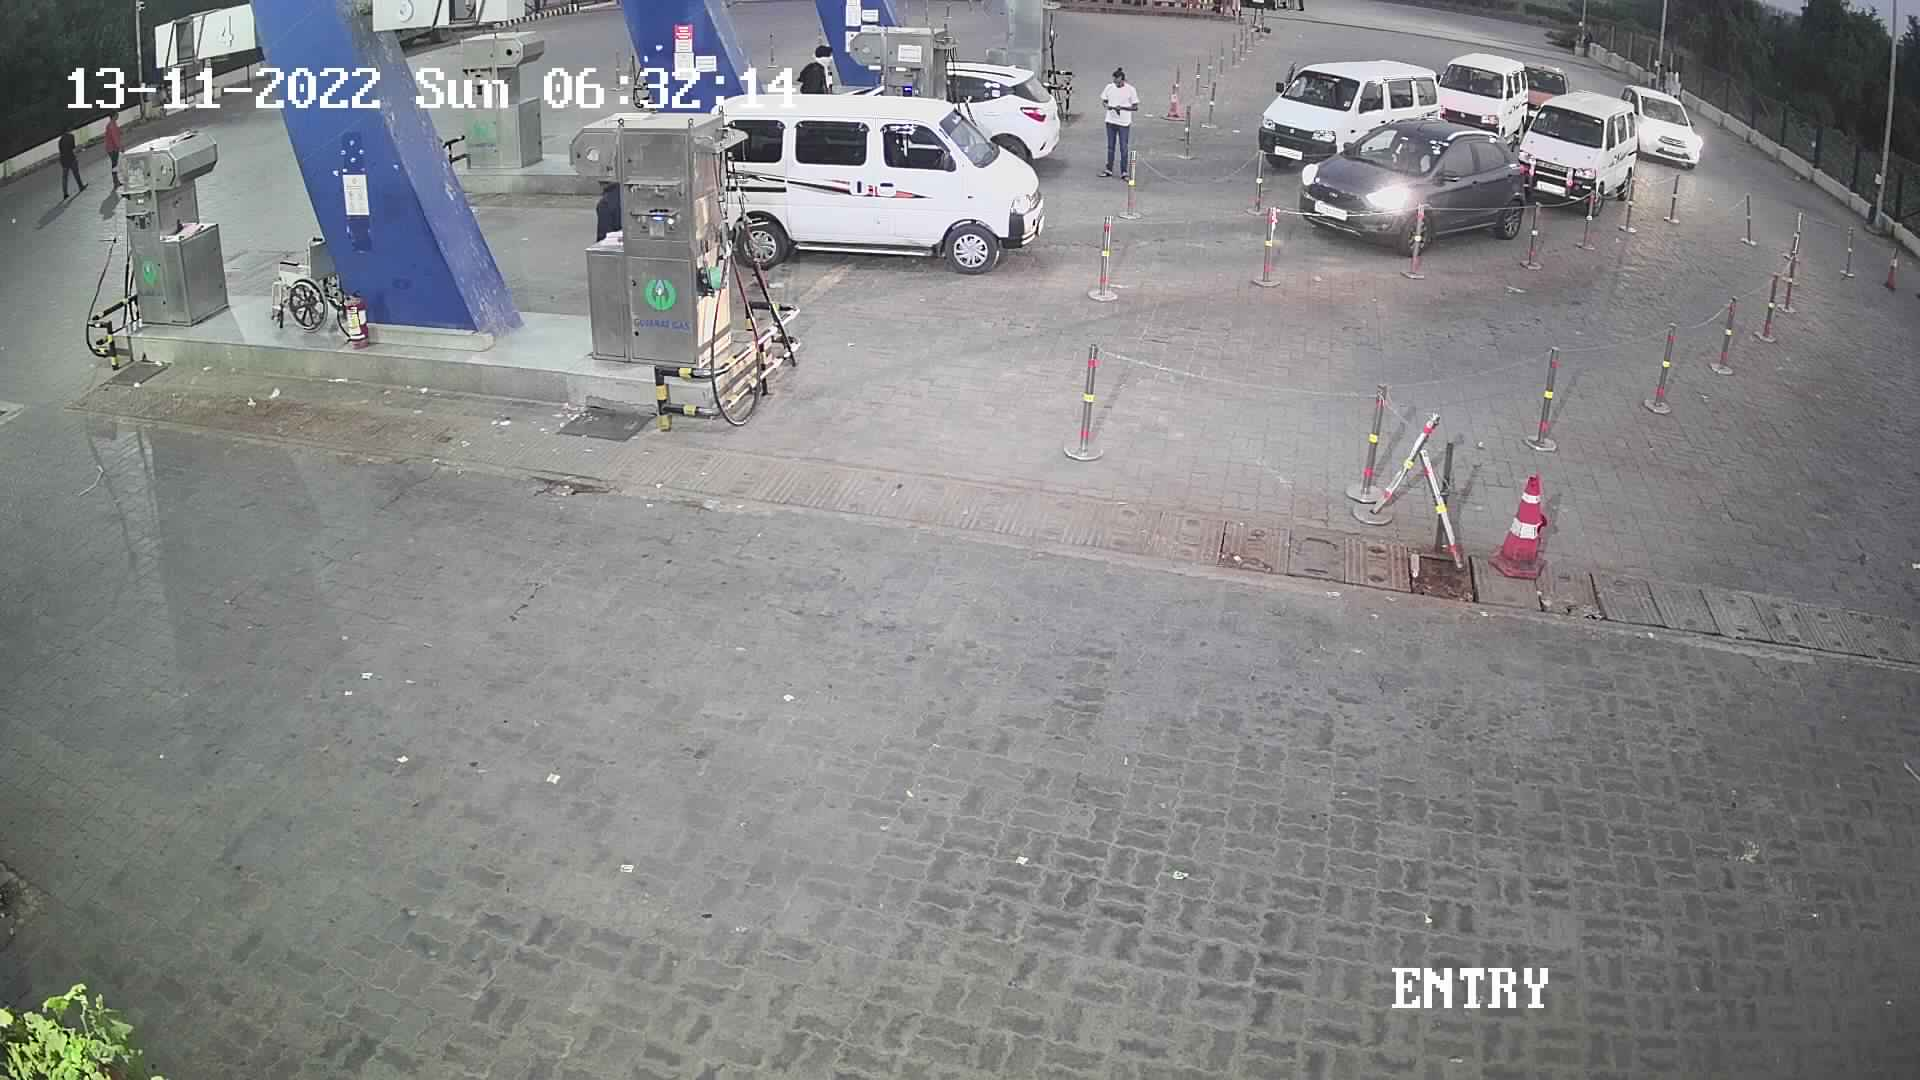Car: (699, 83, 1055, 278), (1296, 104, 1542, 257), (1245, 50, 1451, 173), (1507, 84, 1642, 214), (943, 53, 1068, 170), (1429, 47, 1530, 153), (1611, 76, 1710, 175), (1516, 53, 1576, 128)
